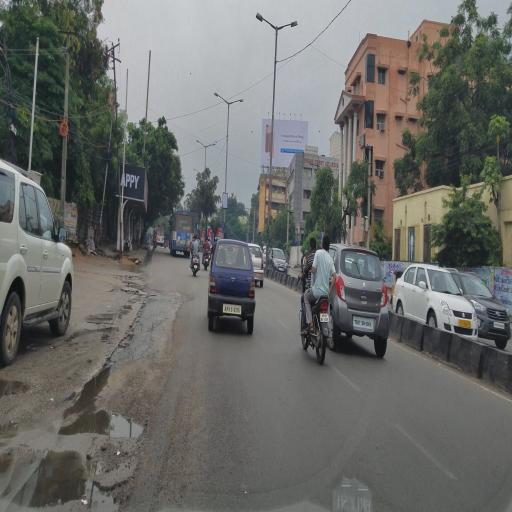street_light_0: (250, 4, 280, 49), (278, 10, 305, 38), (208, 86, 228, 112), (191, 132, 207, 160), (228, 86, 245, 110), (204, 136, 220, 150)
